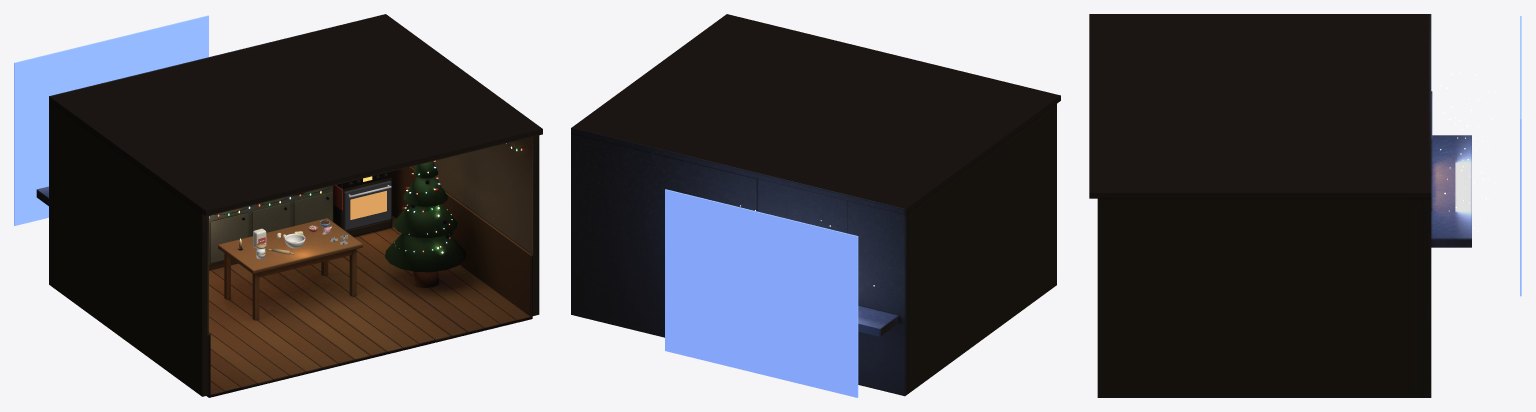
File: kitchen.glb
The picture shows the model from 3 angles, left to right: view 1: azimuth 30°, elevation 25°; view 2: azimuth 150°, elevation 25°; view 3: azimuth 270°, elevation 25°; orthographic projection. The views are drawn at different scales.
Visible parts, largest first — view 1: Ceiling_Baked, Wall_Left_Baked, Outside_Snowy_Sky, Wall_Right_Baked, Wainscot_Right_Baked, Table_Top_Baked, Tree_Tier_0_Baked, Floor_Plank_09_Baked, Floor_Plank_08_Baked, Floor_Plank_16_Baked, Floor_Plank_07_Baked, Floor_Plank_11_Baked (+24 smaller); view 2: Ceiling_Baked, Outside_Snowy_Sky, Wall_Left_Baked, Wall_Back_Right_Baked, Wall_Back_Left_Baked, Wall_Back_Above_Baked, Outside_Snow_Bank_Baked; view 3: Wall_Right_Baked, Ceiling_Baked, Outside_Snow_Bank_Baked, Wall_Back_Right_Baked, Outside_Snowy_Sky.
Part boxes in pixels (left/top/right/bottom): Ceiling_Baked: left=49, top=14, right=542, bottom=216; Wall_Left_Baked: left=52, top=104, right=208, bottom=396; Outside_Snowy_Sky: left=14, top=15, right=208, bottom=225; Wall_Right_Baked: left=411, top=135, right=539, bottom=315; Wainscot_Right_Baked: left=392, top=166, right=532, bottom=316; Table_Top_Baked: left=218, top=218, right=362, bottom=273; Tree_Tier_0_Baked: left=385, top=233, right=466, bottom=272; Floor_Plank_09_Baked: left=231, top=263, right=370, bottom=362; Floor_Plank_08_Baked: left=210, top=267, right=354, bottom=366; Floor_Plank_16_Baked: left=353, top=236, right=483, bottom=334; Floor_Plank_07_Baked: left=209, top=270, right=338, bottom=370; Floor_Plank_11_Baked: left=279, top=269, right=402, bottom=354; Ceiling_Baked: left=571, top=14, right=1060, bottom=214; Outside_Snowy_Sky: left=665, top=189, right=858, bottom=397; Wall_Left_Baked: left=908, top=104, right=1056, bottom=393; Wall_Back_Right_Baked: left=571, top=133, right=757, bottom=337; Wall_Back_Left_Baked: left=847, top=201, right=908, bottom=396; Wall_Back_Above_Baked: left=757, top=179, right=847, bottom=233; Outside_Snow_Bank_Baked: left=858, top=305, right=898, bottom=336; Wall_Right_Baked: left=1097, top=198, right=1422, bottom=397; Ceiling_Baked: left=1089, top=14, right=1431, bottom=198; Outside_Snow_Bank_Baked: left=1431, top=135, right=1471, bottom=247; Wall_Back_Right_Baked: left=1423, top=198, right=1431, bottom=397; Outside_Snowy_Sky: left=1520, top=16, right=1521, bottom=296.
Bounding box in the file's own units: 5.2 × 2.84 × 5.31.
40 materials, 1 textured.
